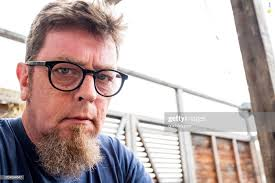Glasses: (17, 57, 130, 103)
